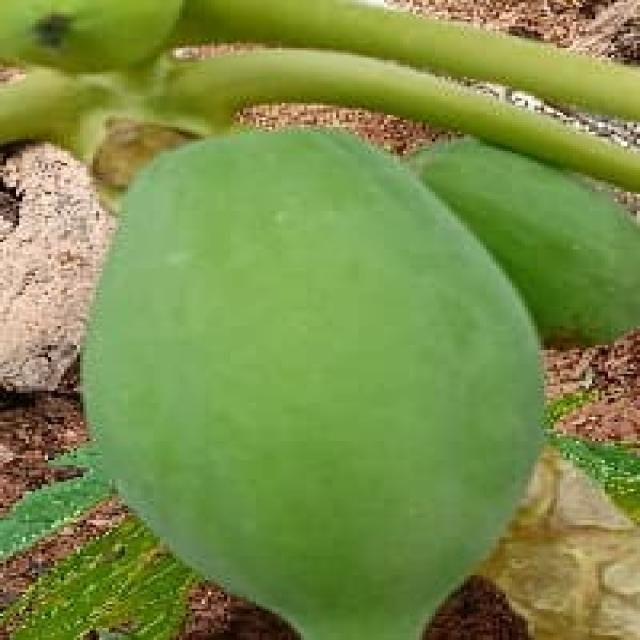Pepaya: (76, 122, 554, 638)
